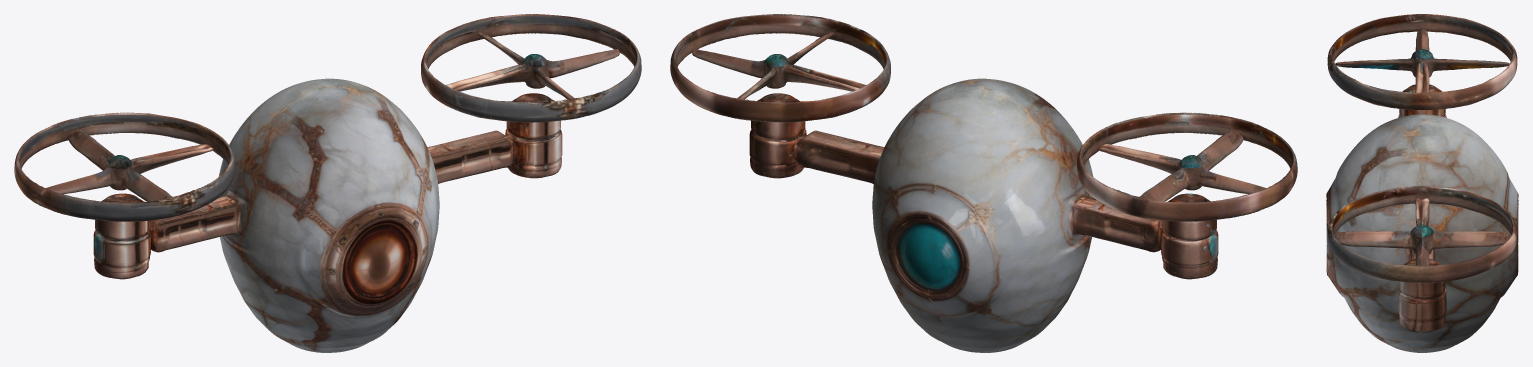
The model's file is egg_drone.glb.
3 views of the same model, side by side, from view 1: azimuth 30°, elevation 25°; view 2: azimuth 150°, elevation 25°; view 3: azimuth 270°, elevation 25° (orthographic). The views are drawn at different scales.
Visible parts, largest first — view 1: Object_5, Object_4; view 2: Object_4, Object_5; view 3: Object_4, Object_5.
Part boxes in pixels (left/top/right/bottom): Object_5: left=33, top=14, right=619, bottom=352; Object_4: left=14, top=15, right=641, bottom=352; Object_4: left=672, top=14, right=1297, bottom=352; Object_5: left=670, top=26, right=1297, bottom=307; Object_4: left=1327, top=14, right=1518, bottom=352; Object_5: left=1326, top=15, right=1516, bottom=349.
Bounding box in the file's own units: 2 × 0.8196 × 0.6383.
1 material, 1 textured.
